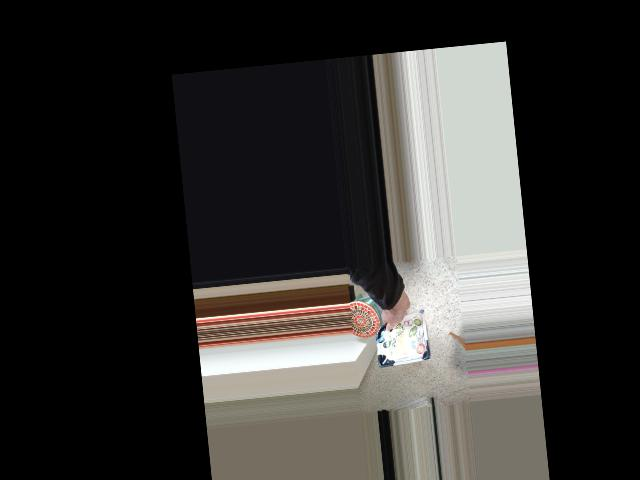cheese: (365, 292, 437, 365)
